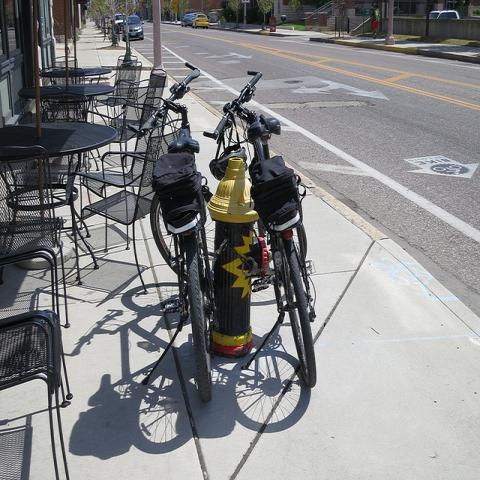car: (122, 15, 145, 42), (192, 14, 209, 29), (114, 12, 126, 30), (180, 14, 194, 28)
truck: (428, 10, 461, 20)
